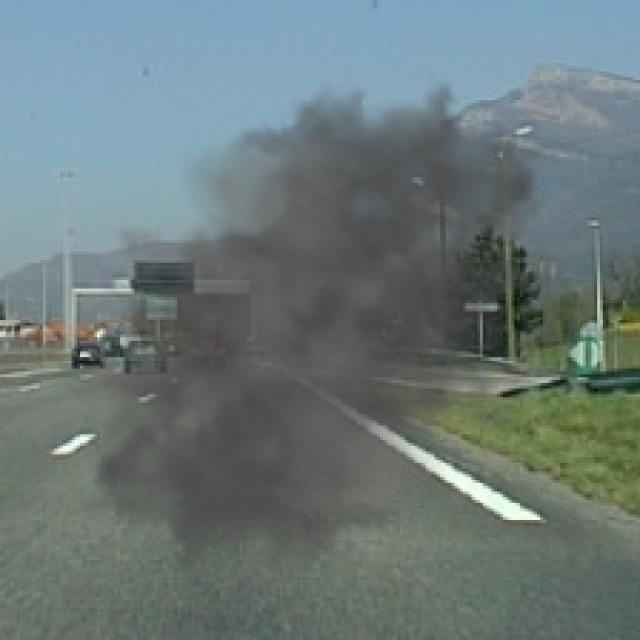Smoke: (54, 46, 577, 612)
